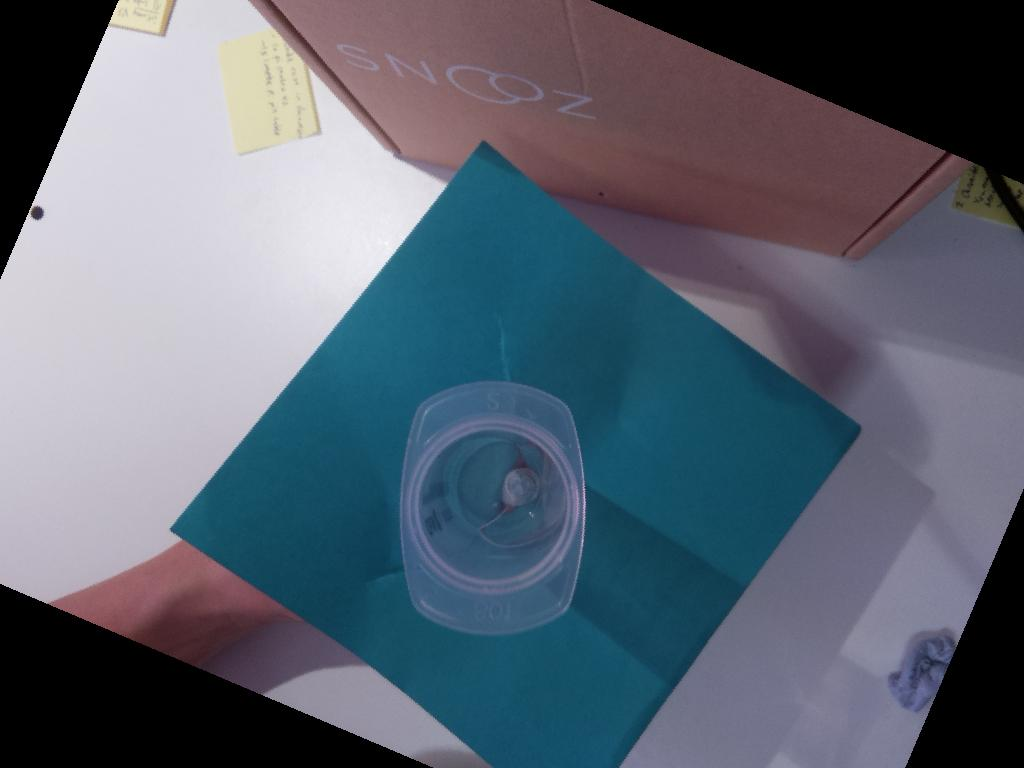clean: (398, 379, 587, 637)
